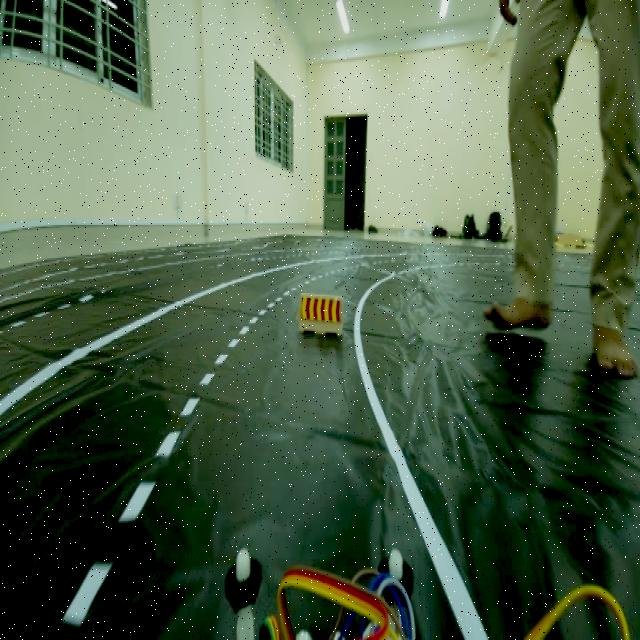roadblock: (295, 284, 347, 342)
